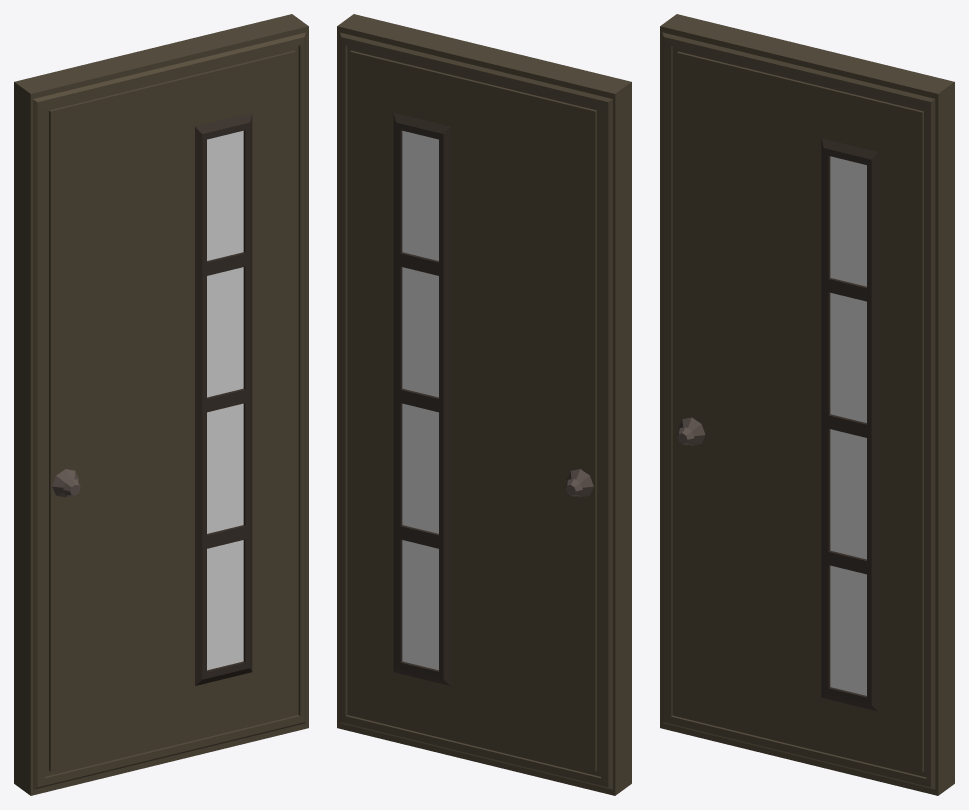
The model's file is door.glb.
3 views of the same model, side by side, from view 1: azimuth 30°, elevation 25°; view 2: azimuth 150°, elevation 25°; view 3: azimuth 330°, elevation 25° (orthographic).
Parts seen in each view (by area): view 1: Door_6_0ab598, Door_6_b1f0d3, Door_6_4caab7, Door_6_5d8936; view 2: Door_6_0ab598, Door_6_b1f0d3, Door_6_4caab7, Door_6_5d8936; view 3: Door_6_0ab598, Door_6_b1f0d3, Door_6_4caab7, Door_6_5d8936.
Boxes of the visible parts, bbox=[...] form: Door_6_0ab598: bbox=[14, 14, 308, 795]; Door_6_b1f0d3: bbox=[207, 130, 243, 670]; Door_6_4caab7: bbox=[195, 113, 252, 685]; Door_6_5d8936: bbox=[52, 469, 80, 497]; Door_6_0ab598: bbox=[337, 14, 631, 795]; Door_6_b1f0d3: bbox=[402, 130, 438, 670]; Door_6_4caab7: bbox=[393, 113, 450, 685]; Door_6_5d8936: bbox=[565, 469, 593, 497]; Door_6_0ab598: bbox=[660, 14, 954, 795]; Door_6_b1f0d3: bbox=[830, 156, 866, 695]; Door_6_4caab7: bbox=[821, 138, 878, 711]; Door_6_5d8936: bbox=[677, 417, 705, 445].
Size of the model in its own units: 1.74 by 4.2 by 0.4211.
